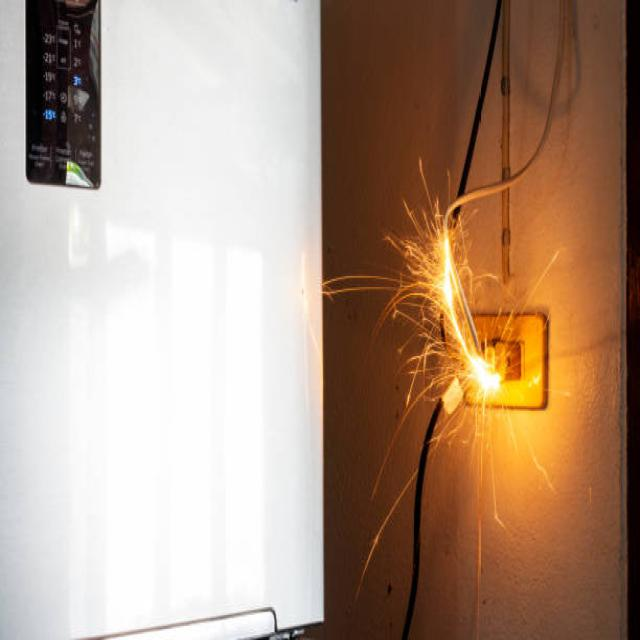fire: (442, 239, 499, 393)
